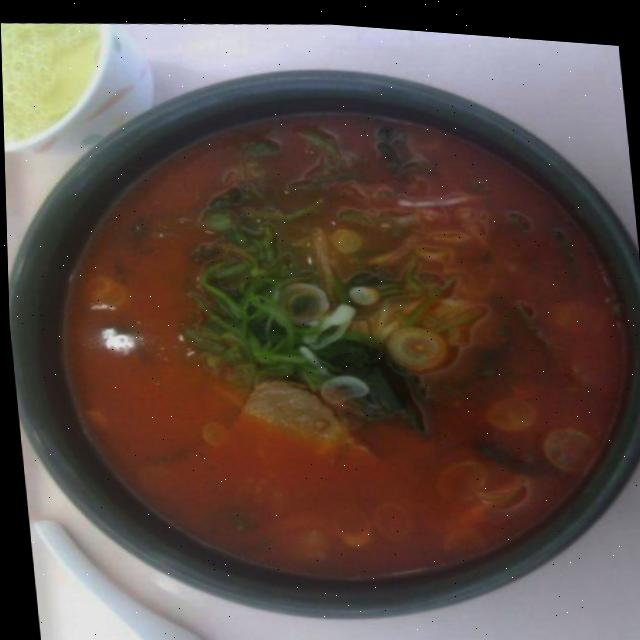面条主食: (0, 16, 640, 640)
